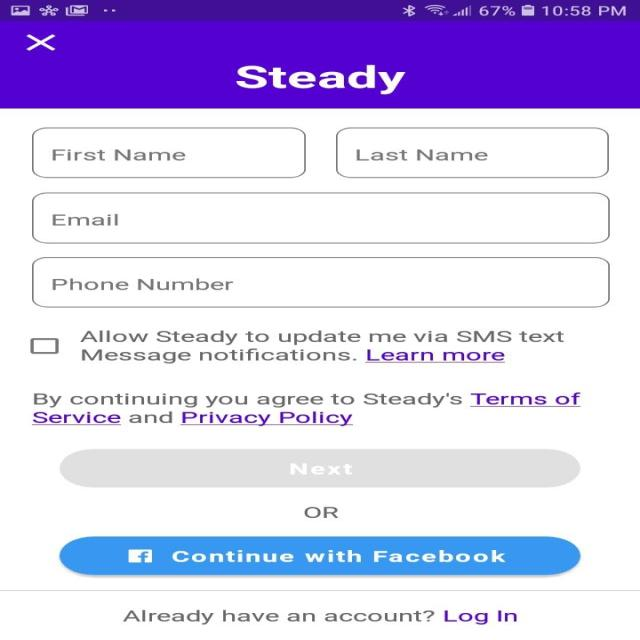EditText: (31, 256, 609, 308), (31, 192, 609, 243), (32, 127, 306, 178), (335, 127, 608, 178)
Icon: (26, 34, 56, 51)
Text: (31, 392, 581, 426), (79, 330, 564, 363), (121, 609, 516, 624), (235, 65, 406, 95), (52, 278, 233, 290), (51, 149, 186, 161), (356, 149, 488, 161), (53, 213, 119, 226), (304, 506, 339, 518)
TextButton: (58, 448, 580, 488), (58, 536, 580, 575)
